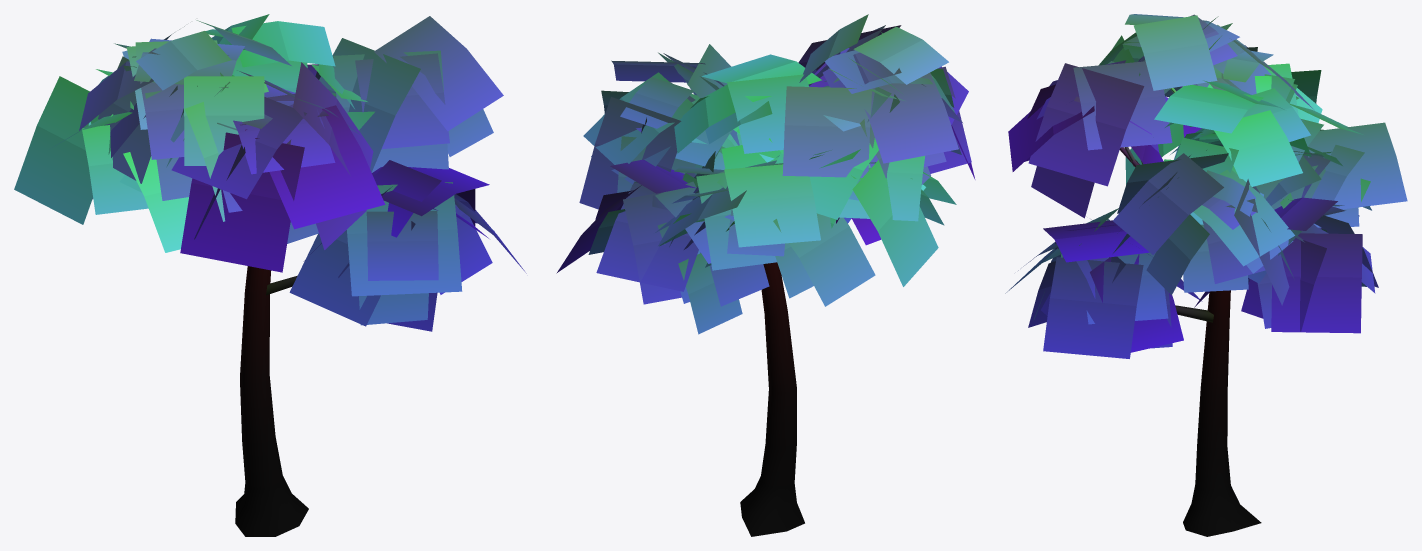
Rendered from Jungle0_LOD1.fbx.
3 renders of one model, left to right at view 1: azimuth 30°, elevation 25°; view 2: azimuth 150°, elevation 25°; view 3: azimuth 270°, elevation 25°, orthographic. The views are drawn at different scales.
Parts seen in each view (by area): view 1: Jungle0_Lite; view 2: Jungle0_Lite; view 3: Jungle0_Lite.
Boxes of the visible parts, <box> form: Jungle0_Lite: <box>14,14,526,536</box>; Jungle0_Lite: <box>556,14,975,536</box>; Jungle0_Lite: <box>1005,14,1407,536</box>.
Size of the model in its own units: 16.18 by 20.54 by 15.75.
